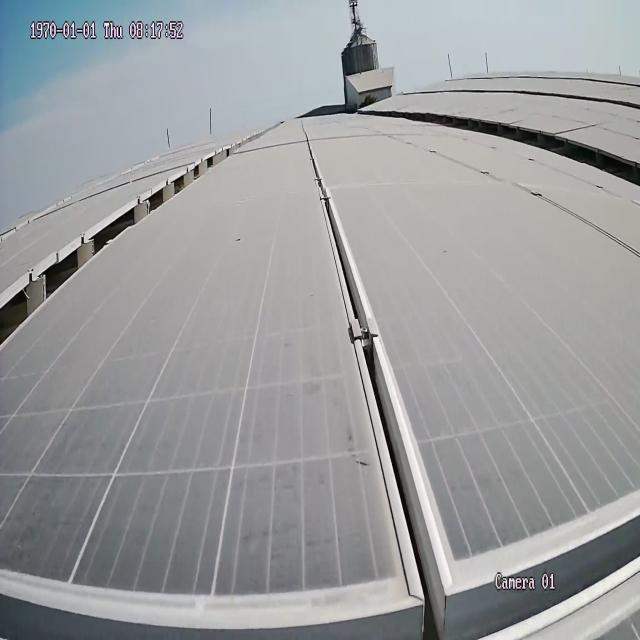interior panel: (3, 140, 635, 640)
outher panel: (3, 134, 251, 348), (399, 110, 639, 187)
